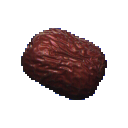gd: (13, 19, 118, 122)
